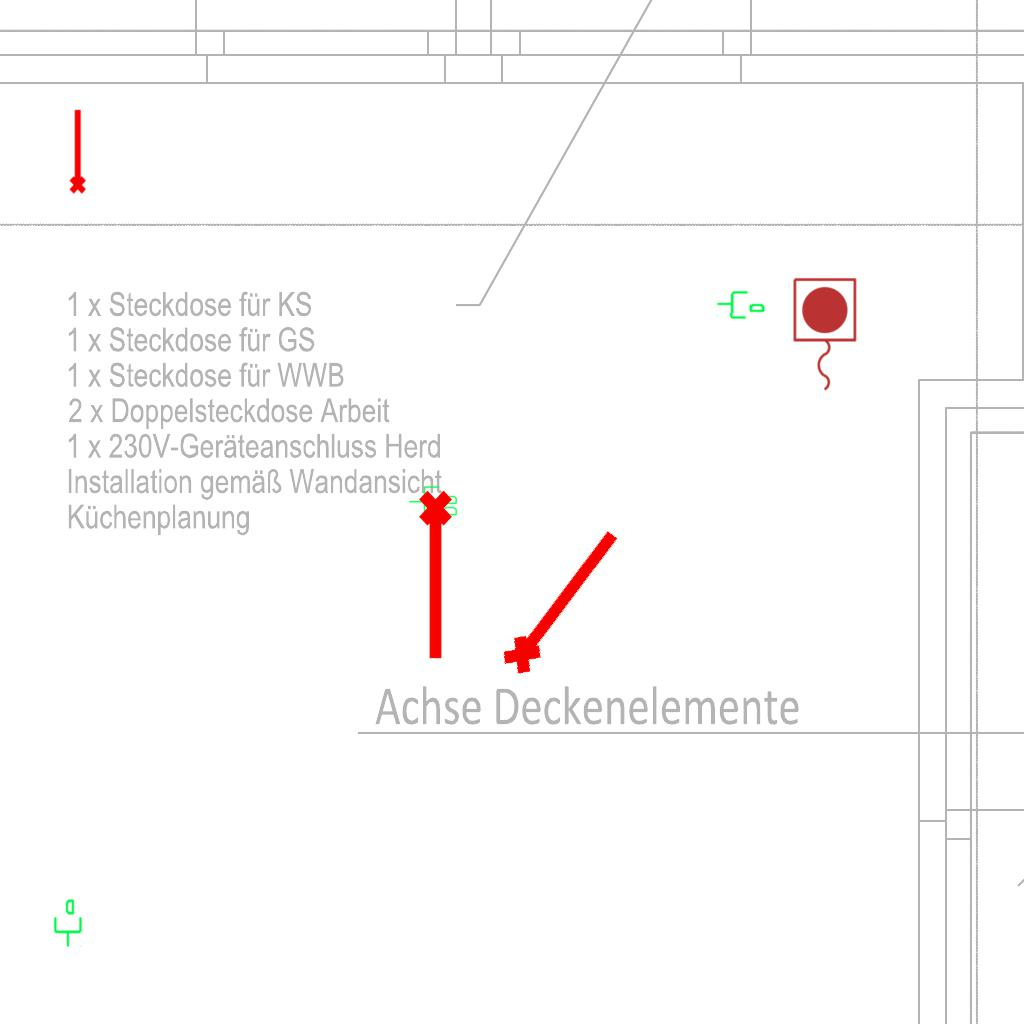ASR_Ansaugoeffnung: (489, 514, 633, 684), (415, 488, 461, 664), (65, 107, 88, 195)
Datenanschluss_einfach: (715, 285, 767, 323), (50, 898, 84, 948)
Datenanschluss_zweifach: (408, 485, 459, 519)
Zugtaster: (788, 274, 860, 396)
